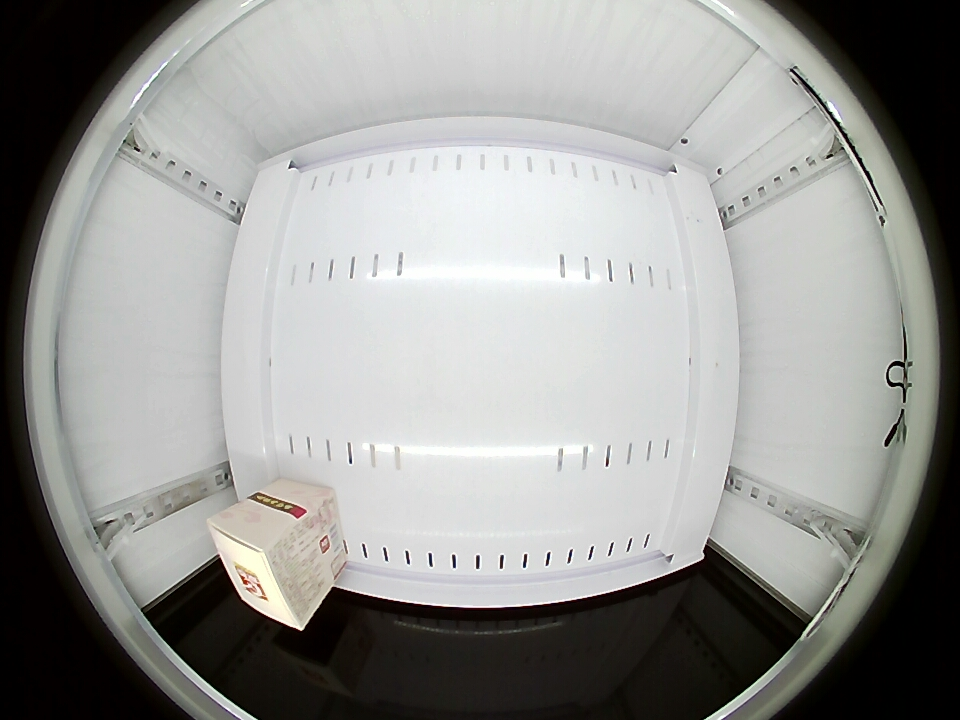rousongbing: (208, 500, 320, 632)
